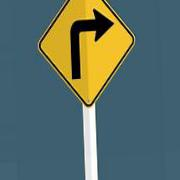right: (36, 1, 137, 106)
